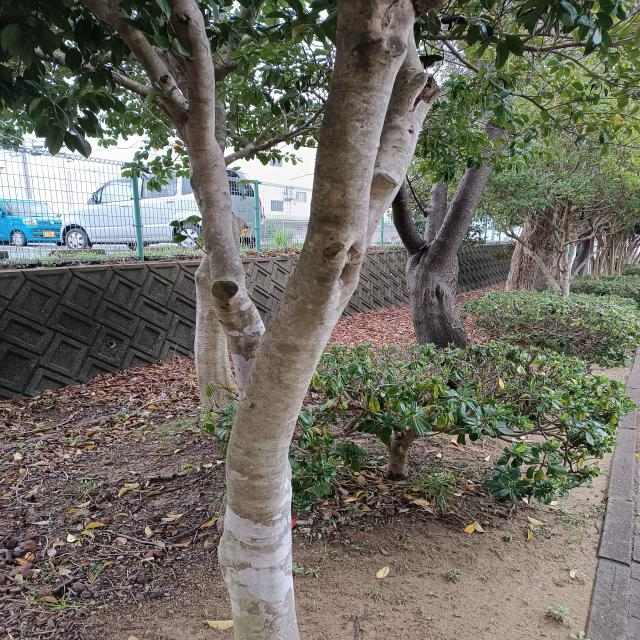Branch: (228, 0, 422, 448), (179, 115, 267, 391), (368, 30, 438, 240)
Twig: (79, 0, 188, 129), (29, 42, 172, 120)
